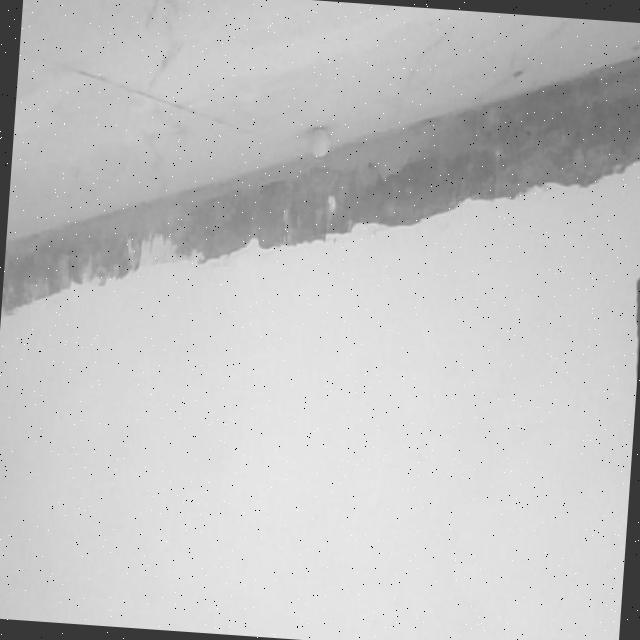ping-pong-ball: (308, 127, 330, 156)
